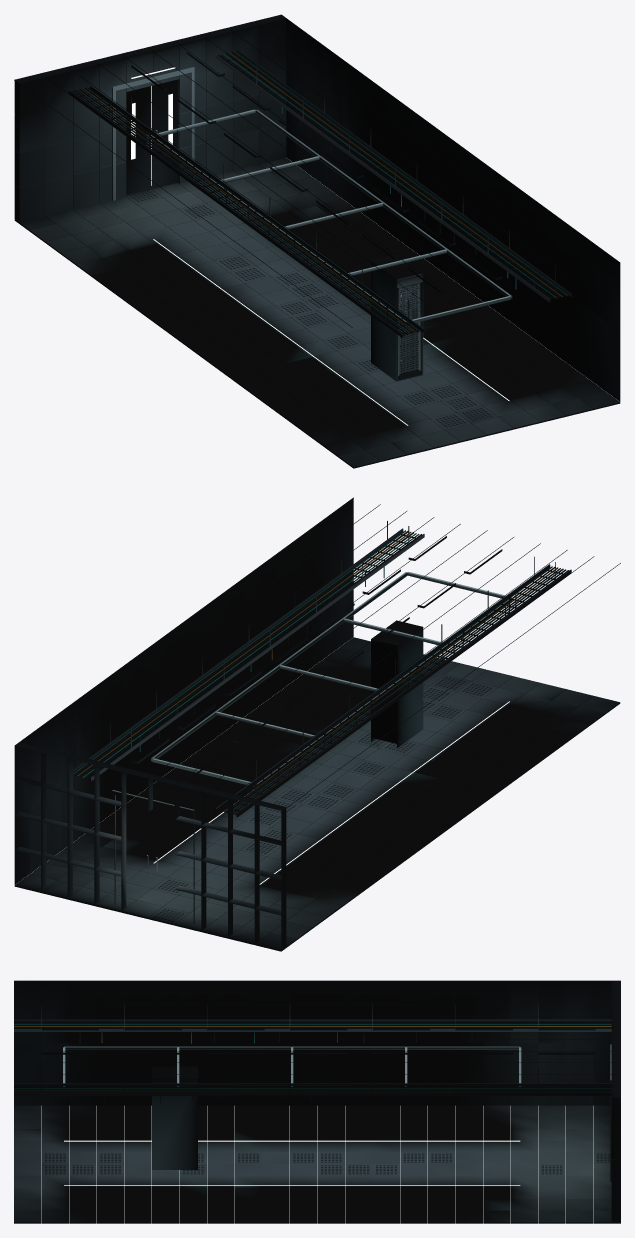
Rendered from datacentre.glb.
3 views of the same model, one above another, from view 1: azimuth 30°, elevation 25°; view 2: azimuth 150°, elevation 25°; view 3: azimuth 270°, elevation 25° (orthographic). The views are drawn at different scales.
Parts seen in each view (by area): view 1: Room, Floor, Rack.A, RoomGlow, Rack.C; view 2: Floor, Room, Rack.A; view 3: Room, Floor, Rack.A, RoomGlow.
Part boxes in pixels (bbox=[...]): Room: bbox=[14, 14, 620, 401]; Floor: bbox=[14, 158, 620, 468]; Rack.A: bbox=[371, 254, 423, 381]; RoomGlow: bbox=[131, 67, 509, 425]; Rack.C: bbox=[399, 285, 419, 373]; Floor: bbox=[14, 637, 620, 951]; Room: bbox=[14, 497, 620, 949]; Rack.A: bbox=[371, 620, 423, 747]; Room: bbox=[14, 980, 620, 1221]; Floor: bbox=[14, 1105, 620, 1223]; Rack.A: bbox=[152, 1066, 197, 1169]; RoomGlow: bbox=[64, 1140, 520, 1185].
Size of the model in its own units: 6.02 by 3.03 by 13.2.
